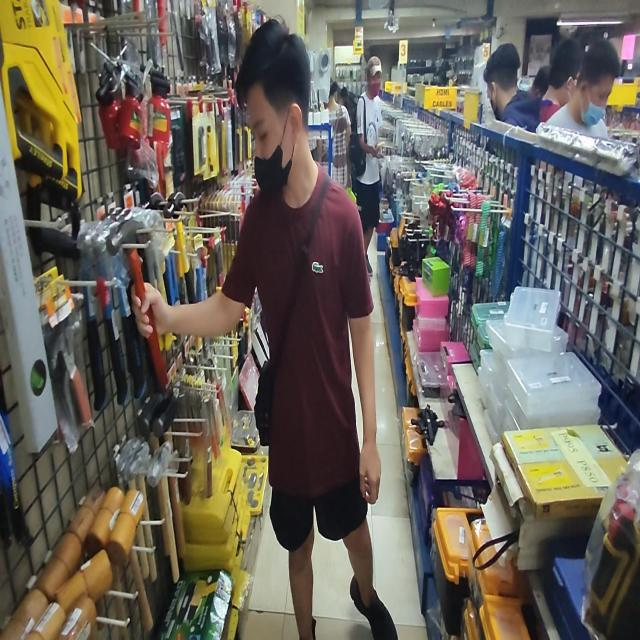hammer: (106, 218, 168, 390)
